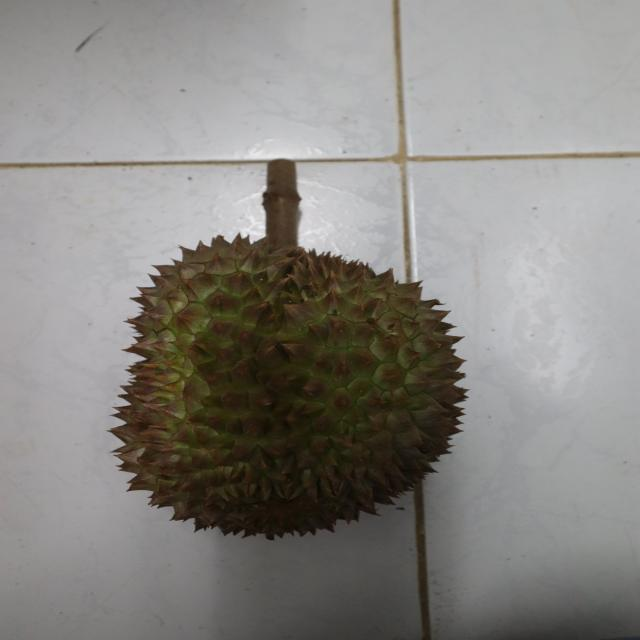mature: (109, 236, 469, 546)
